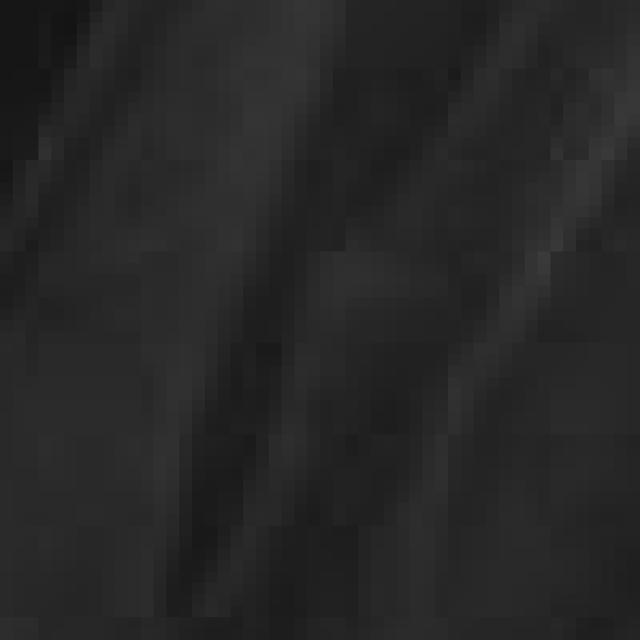fracture: (9, 1, 640, 640)
